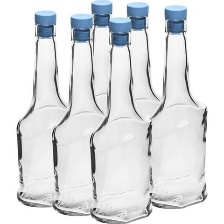bottle: (148, 3, 216, 209), (88, 15, 152, 224), (14, 6, 74, 210), (50, 11, 106, 217), (125, 0, 164, 122), (83, 0, 118, 118)
